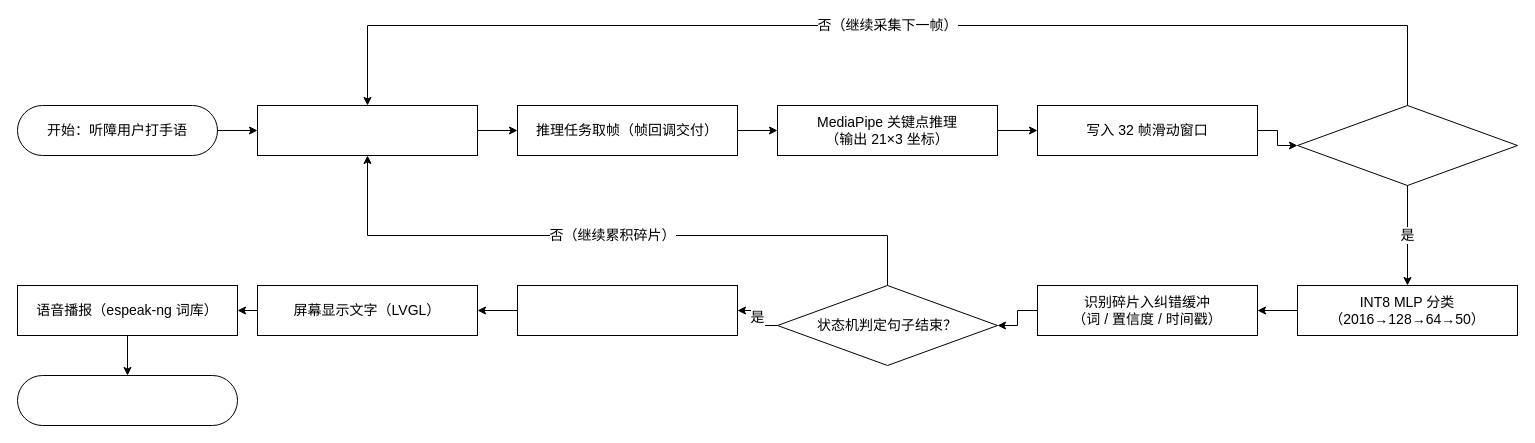
Some shapes in this 1535 by 443 pixel diagram are drawn without their labels. The shapes that lost their labels are listed below. From the top down, each one's centre as x and y in pixels, then its label:
the point at 367,130: 摄像头采集帧 （DMA 直写 PSRAM 双缓冲）
the point at 1407,145: 窗口已满且到分类节拍？
the point at 627,310: 语义纠错 flush （过滤 / 去重合并 / 拼句）
the point at 127,400: 结束
